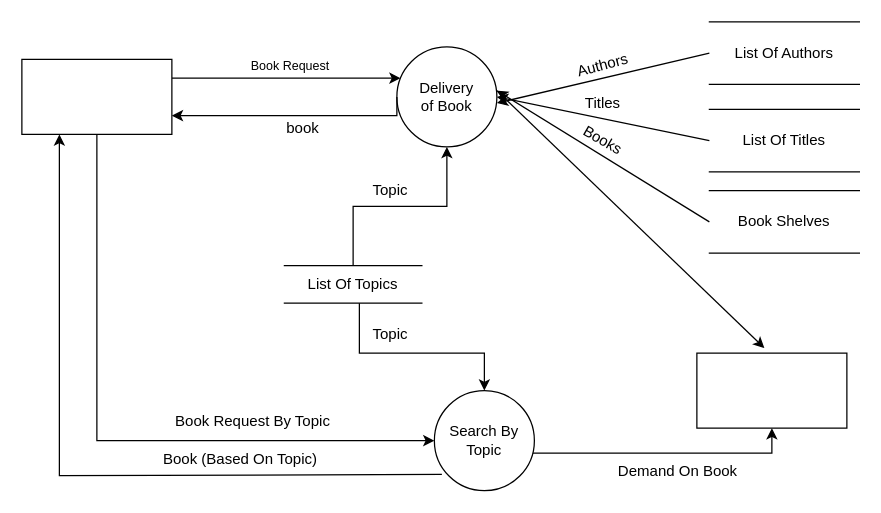
Some shapes in this 881 by 513 pixel diagram are drawn without their labels. Here are the shapes that lost their labels. From the top down, the centre of each, then its label:
At point (96, 96): "Customer".
At point (771, 390): "Display Of Books".
